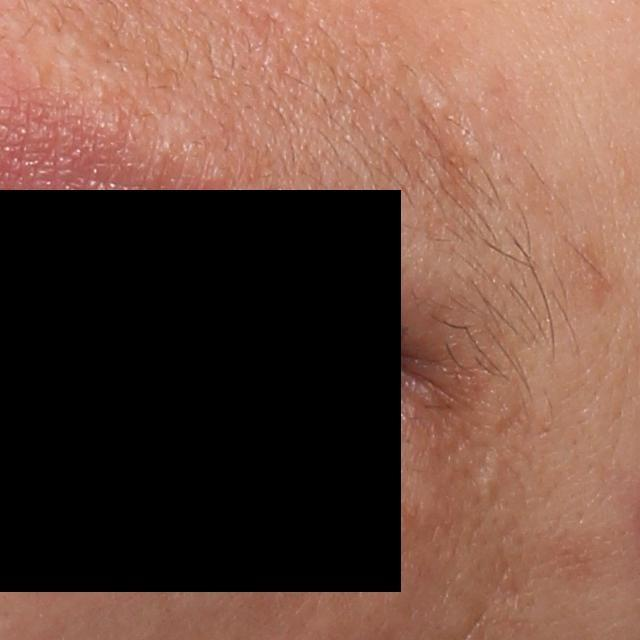hypertrophic_scar: (476, 448, 510, 508)
